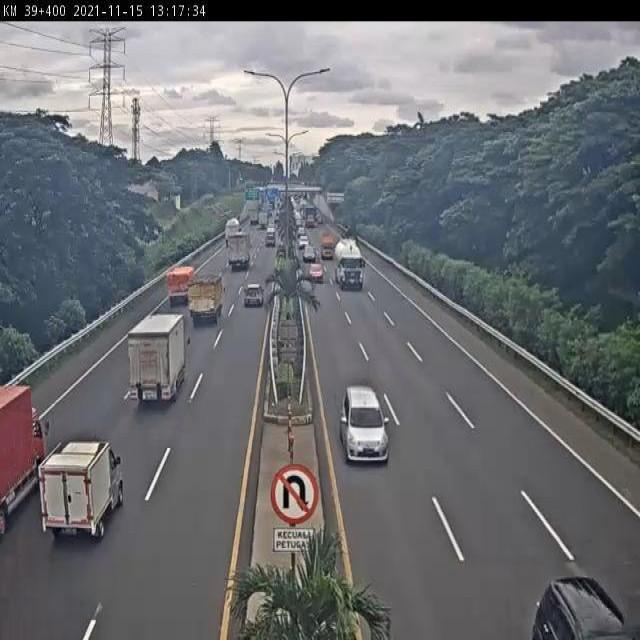car: (339, 385, 391, 467), (243, 280, 264, 309), (308, 263, 326, 285)
truck-l-: (334, 236, 366, 289)
truck-m-: (0, 383, 46, 544), (128, 309, 187, 407), (188, 275, 224, 329), (225, 232, 254, 271)
truck-s-: (41, 437, 124, 544), (167, 265, 197, 308)
